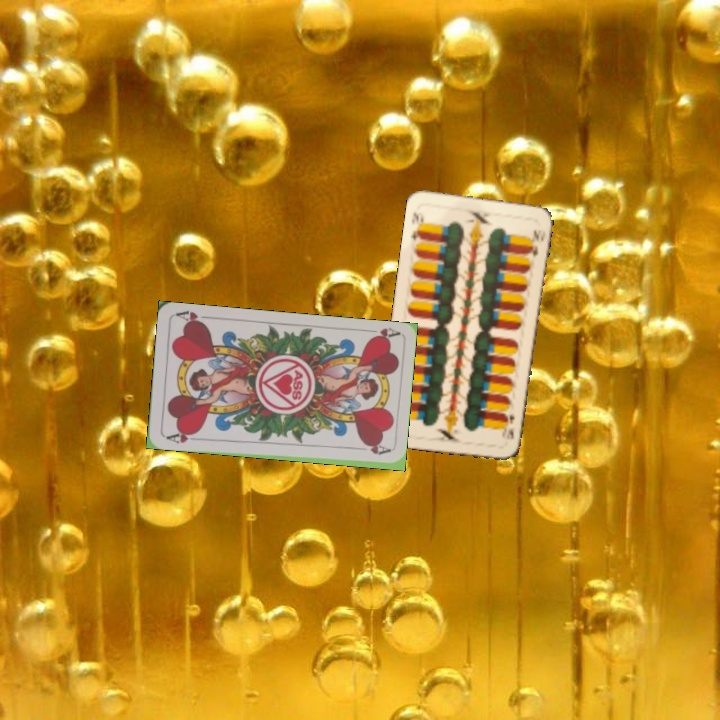E10: (407, 208, 426, 243), (500, 411, 517, 442)
HA: (360, 324, 401, 344), (162, 427, 202, 446)
